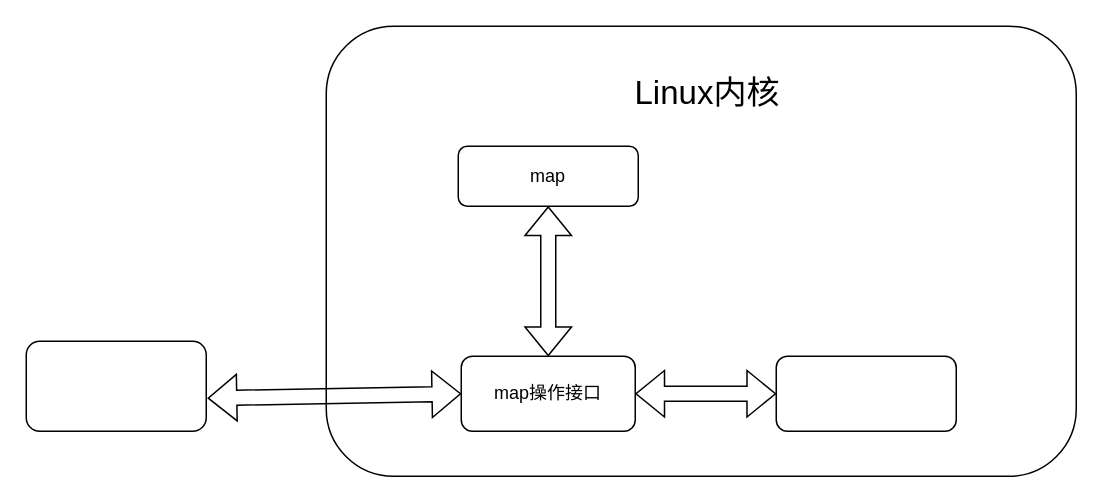
This 1103x503 diagram has some shape labels left out. The box of each missing label's shape, as (x1, y1, x2, y2) in pixels:
eBPF程序: (775, 355, 956, 431)
用户程序: (25, 340, 206, 431)
